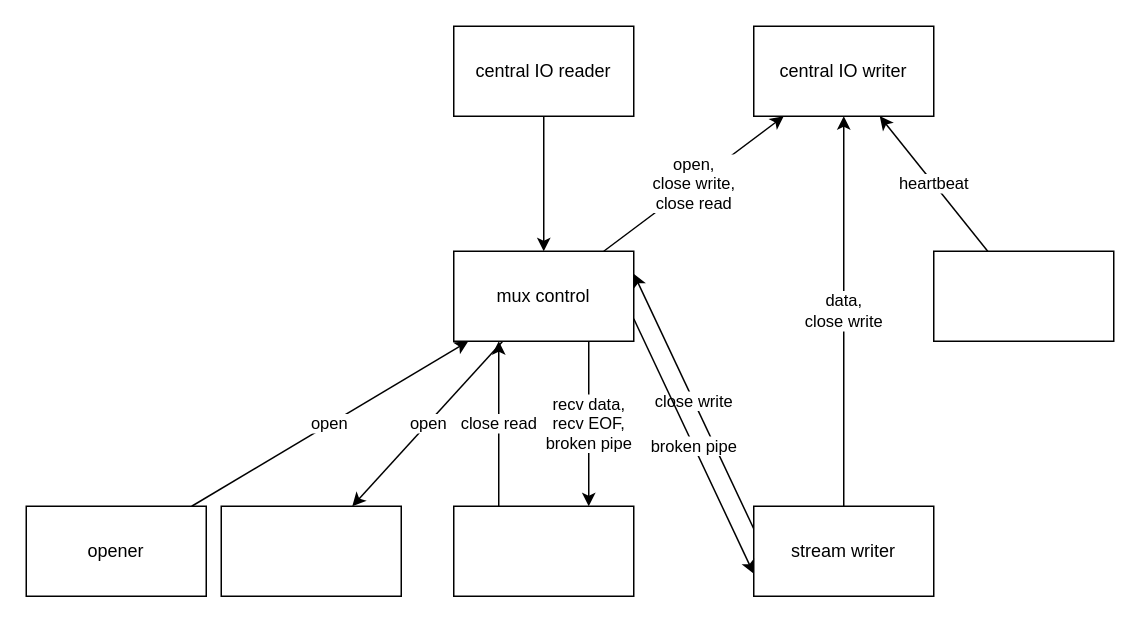
The diagram is 1140 pixels wide and 623 high, and some of its shapes have lost their labels. Each missing label, with the box of its shape:
accepter: (220, 505, 401, 596)
stream reader: (452, 505, 634, 596)
timer: (932, 250, 1114, 341)
